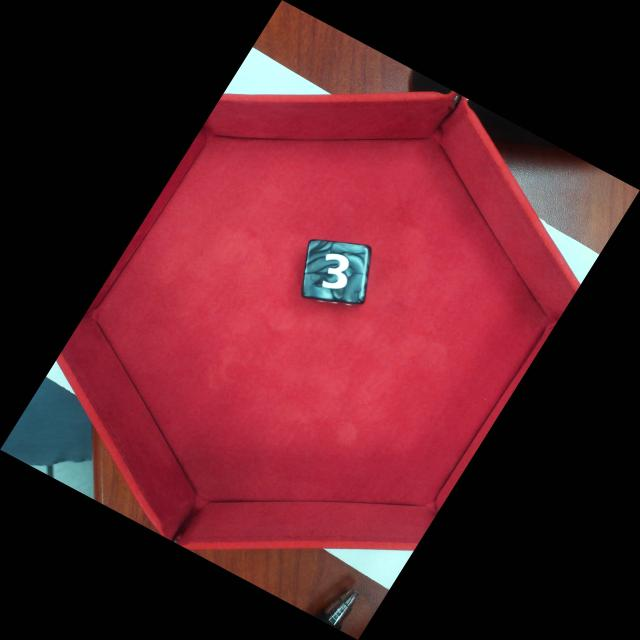dice: (307, 239, 367, 300)
